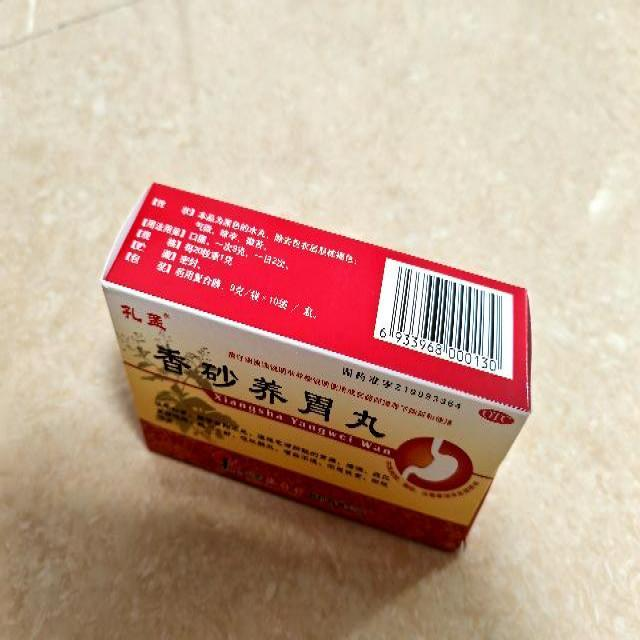box: (99, 180, 533, 552)
